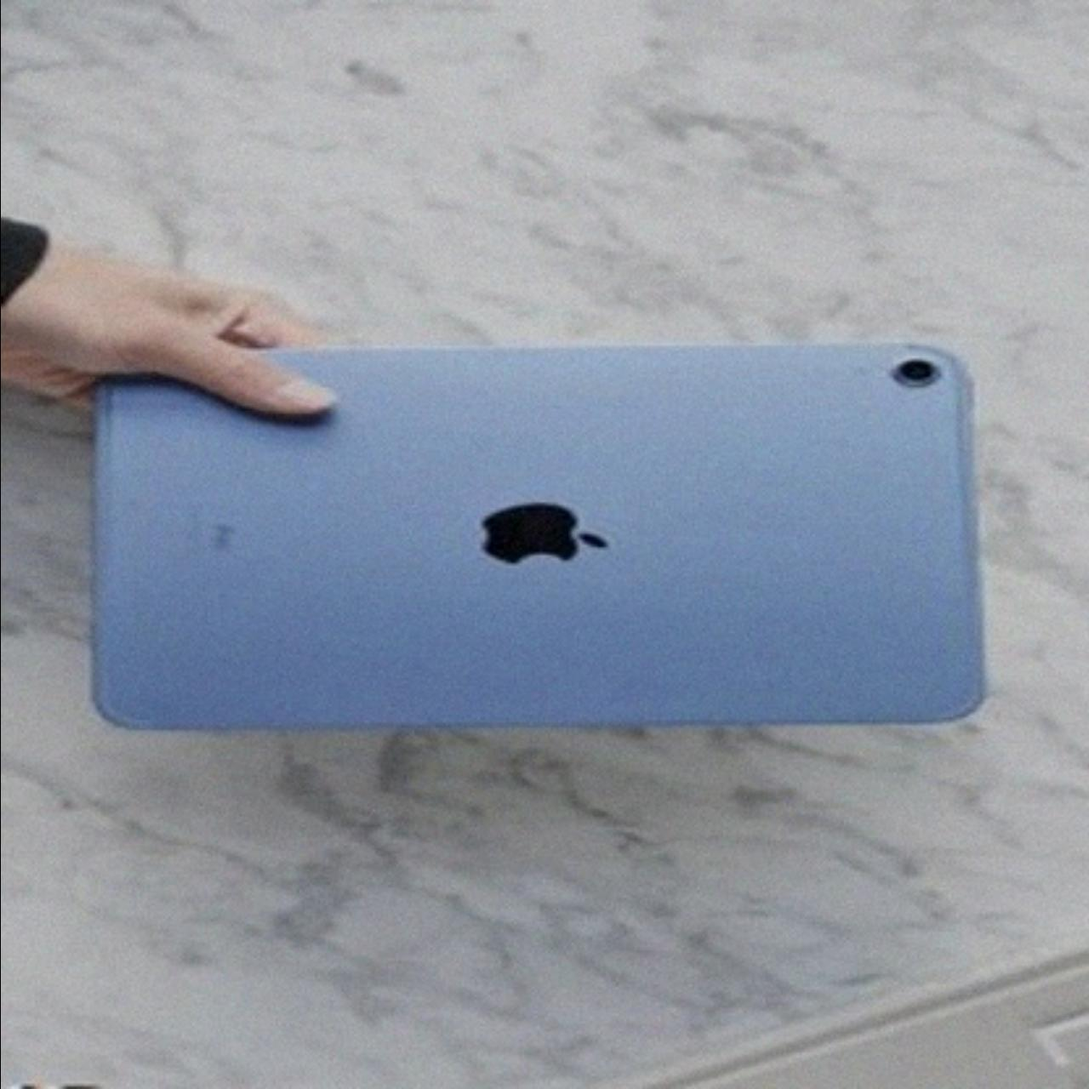Tablet_PC: (79, 319, 989, 767)
